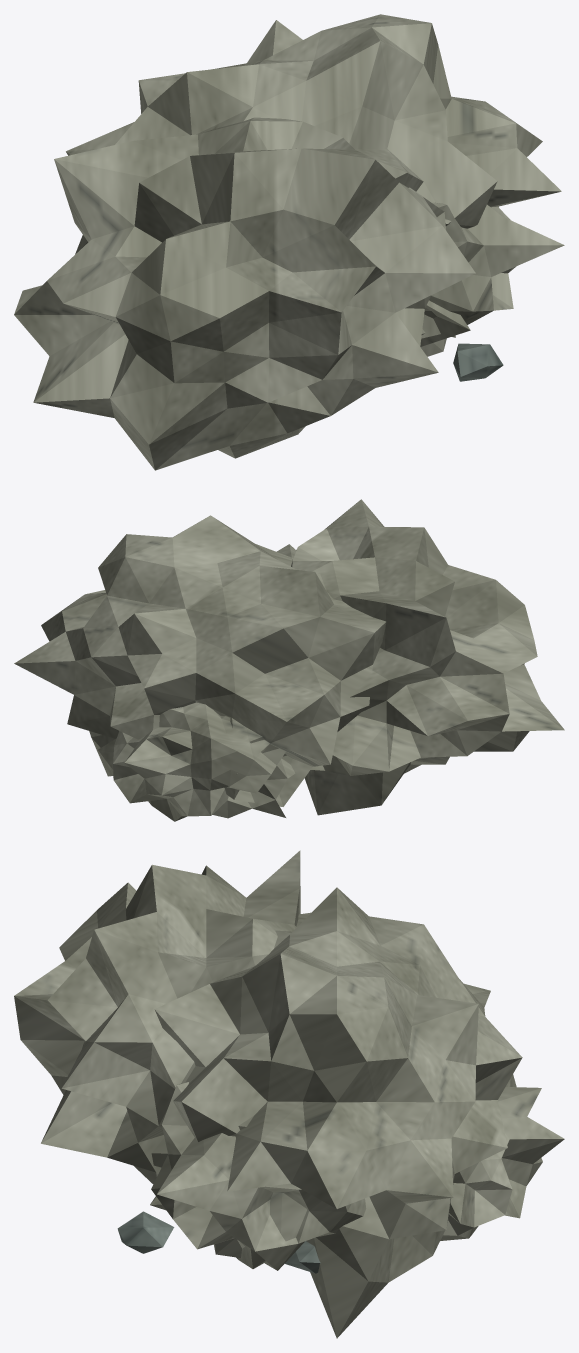
The model's file is 0013_boulder_13.glb.
3 views of the same model, one above another, from view 1: azimuth 30°, elevation 25°; view 2: azimuth 150°, elevation 25°; view 3: azimuth 270°, elevation 25° (orthographic). The views are drawn at different scales.
Visible parts, largest first — view 1: stone_light, stone; view 2: stone_light; view 3: stone_light, stone.
Part boxes in pixels (<box>): stone_light: <box>14,14,564,470</box>; stone: <box>453,343,503,381</box>; stone_light: <box>14,499,564,821</box>; stone_light: <box>14,850,564,1338</box>; stone: <box>117,1211,320,1273</box>.
Size of the model in its own units: 2.8 by 1.63 by 2.3.
Materials: 3 (3 with a texture image).
